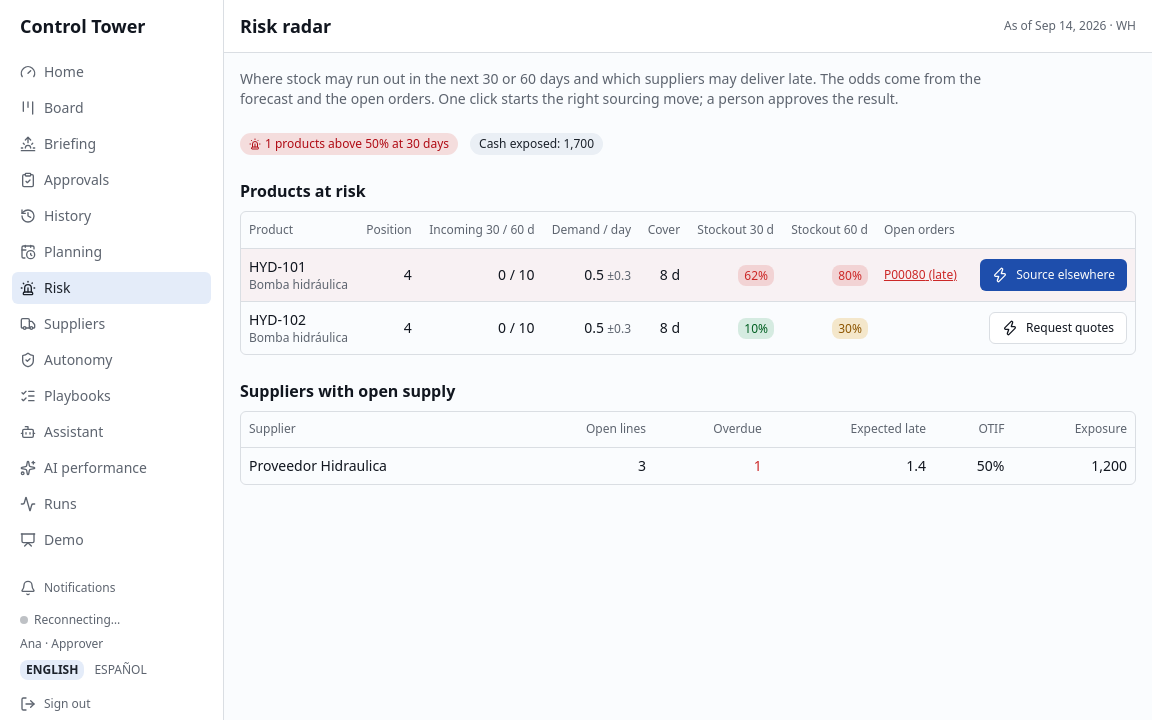
Scenario: risk radar › ranks the products, shows the late order and starts sourcing in one click
Expected: the heading "Risk radar" is shown, [240,12,331,40]
Expected: the text "1 products above 50% at 30 days" is shown, [240,133,458,155]
Click the button with aria-label "Act on HYD-101" at (1054, 274), box [980,258,1127,290]
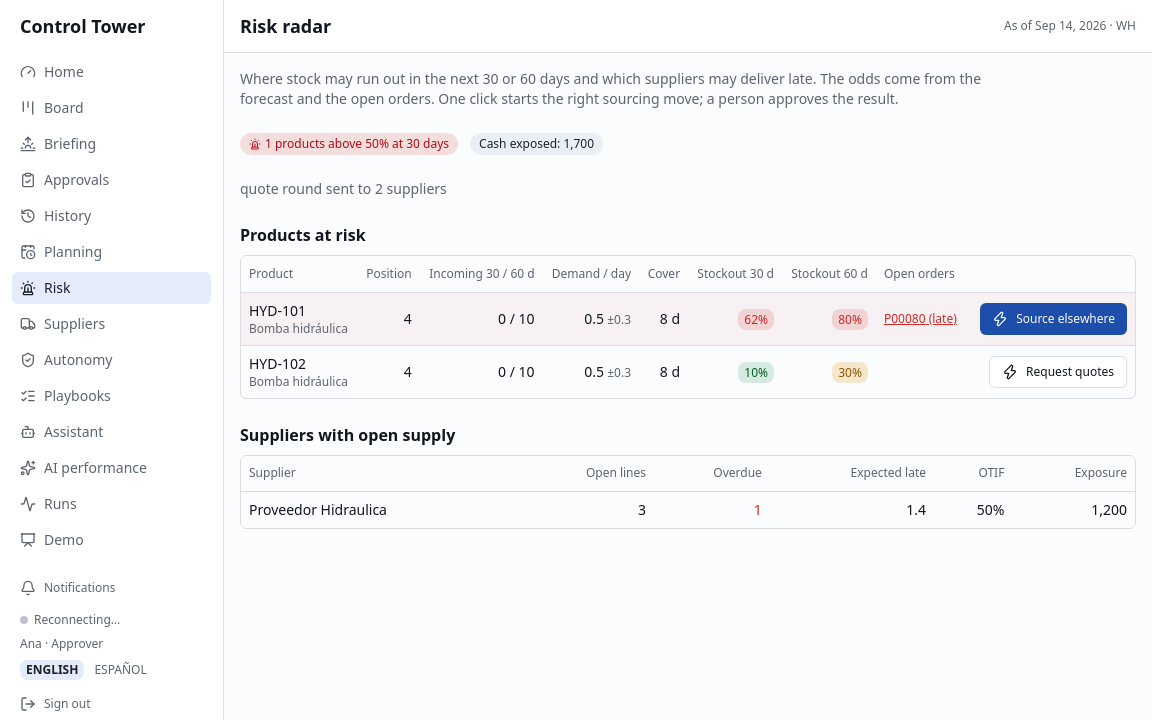
Result: the message reads "quote round sent to 2 suppliers" at [240,179,447,198]
